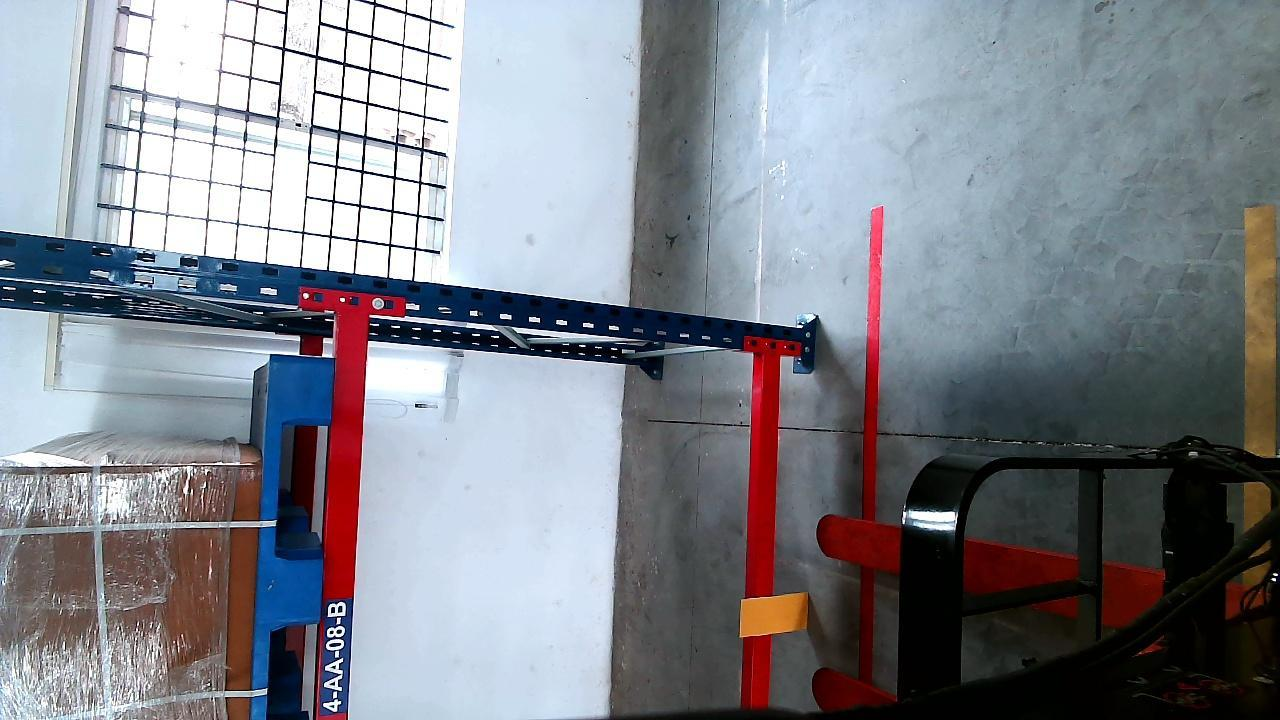red_line: (862, 206, 885, 680)
yellow_line: (1245, 205, 1277, 458)
